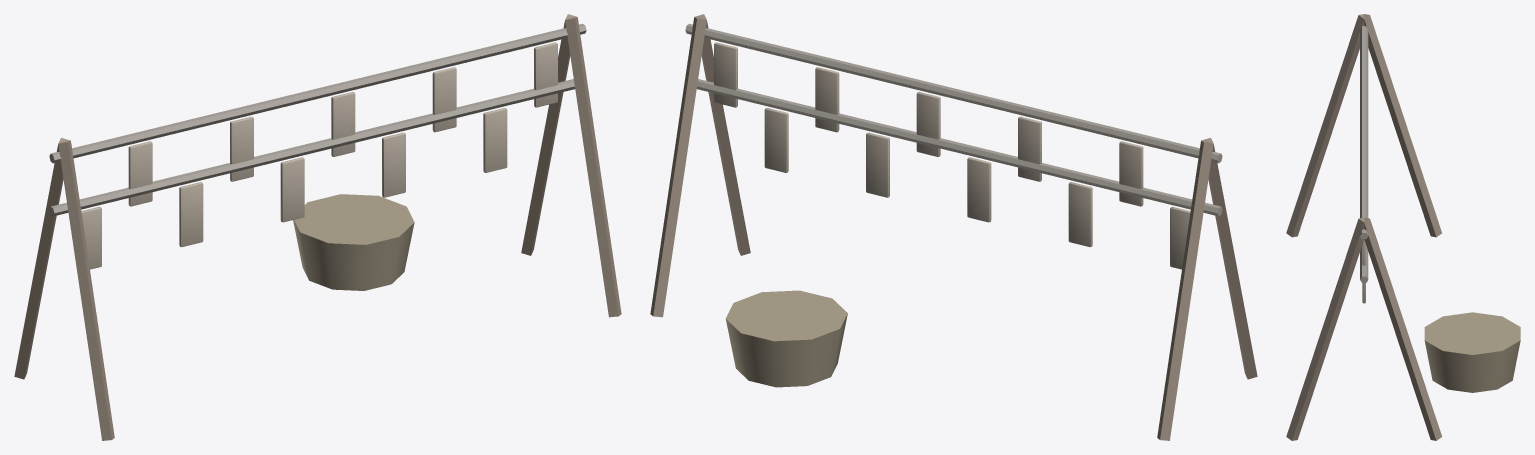
File: drying_rack.gltf
The picture shows the model from 3 angles, left to right: view 1: azimuth 30°, elevation 25°; view 2: azimuth 150°, elevation 25°; view 3: azimuth 270°, elevation 25°; orthographic projection. The views are drawn at different scales.
Parts seen in each view (by area): view 1: Body; view 2: Body; view 3: Body.
Part boxes in pixels (bbox=[...]): Body: bbox=[14, 14, 621, 440]; Body: bbox=[650, 14, 1257, 440]; Body: bbox=[1286, 14, 1520, 440].
Bounding box in the file's own units: 4.2 × 2.03 × 1.95.
